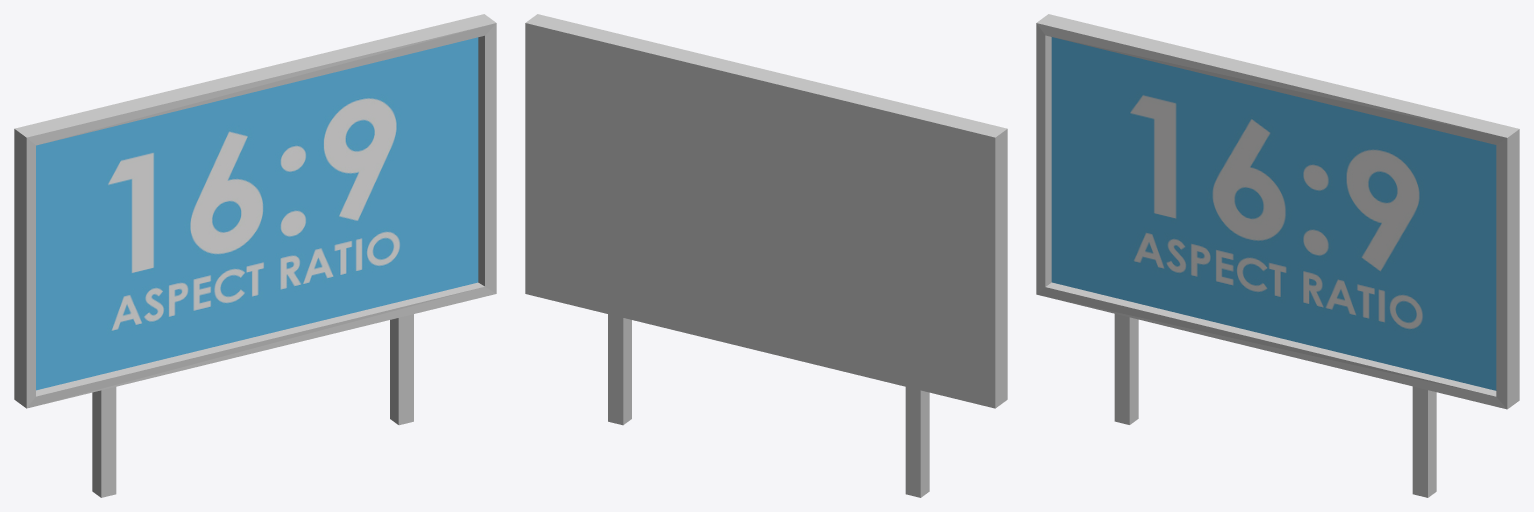
3 renders of one model, left to right at view 1: azimuth 30°, elevation 25°; view 2: azimuth 150°, elevation 25°; view 3: azimuth 330°, elevation 25°, orthographic.
Parts seen in each view (by area): view 1: Board 16-9, Frame 16-9; view 2: Frame 16-9; view 3: Board 16-9, Frame 16-9.
Part boxes in pixels (left/top/right/bottom): Board 16-9: left=36, top=37, right=478, bottom=390; Frame 16-9: left=14, top=14, right=496, bottom=497; Frame 16-9: left=525, top=14, right=1007, bottom=497; Board 16-9: left=1051, top=37, right=1496, bottom=390; Frame 16-9: left=1036, top=14, right=1519, bottom=497.
Size of the model in its own units: 15.77 by 12.19 by 0.723.
2 materials, 1 textured.
